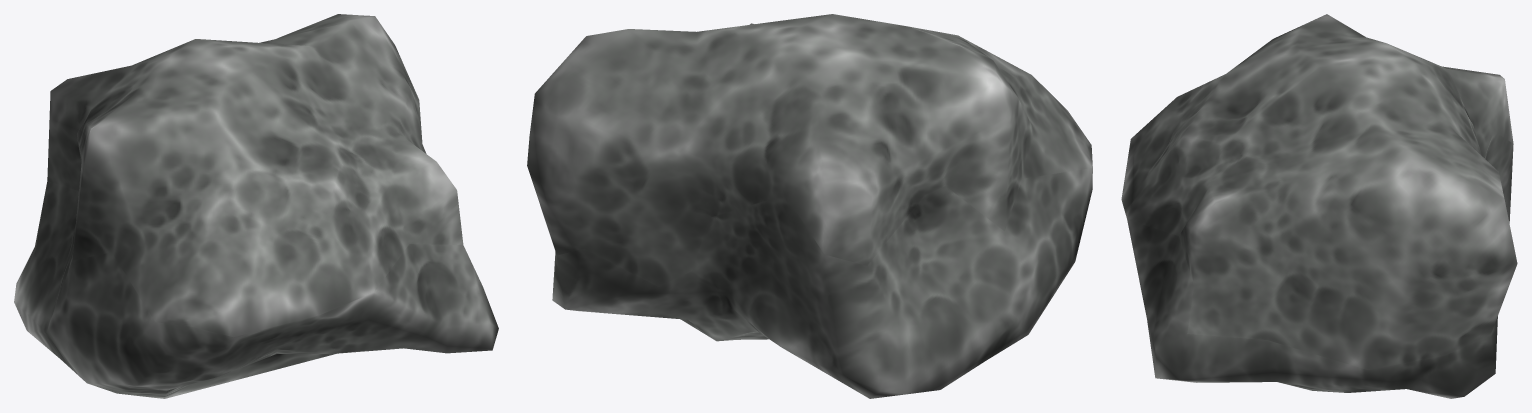
Rendered from BigMeteo1.fbx.
The picture shows the model from 3 angles, left to right: view 1: azimuth 30°, elevation 25°; view 2: azimuth 150°, elevation 25°; view 3: azimuth 270°, elevation 25°; orthographic projection. The views are drawn at different scales.
Visible parts, largest first — view 1: Meteorite_04; view 2: Meteorite_04; view 3: Meteorite_04.
Boxes of the visible parts, x1=… form: Meteorite_04: x1=14, y1=14, x2=498, y2=398; Meteorite_04: x1=527, y1=14, x2=1092, y2=398; Meteorite_04: x1=1121, y1=14, x2=1517, y2=398.
Size of the model in its own units: 962 by 711 by 868.
